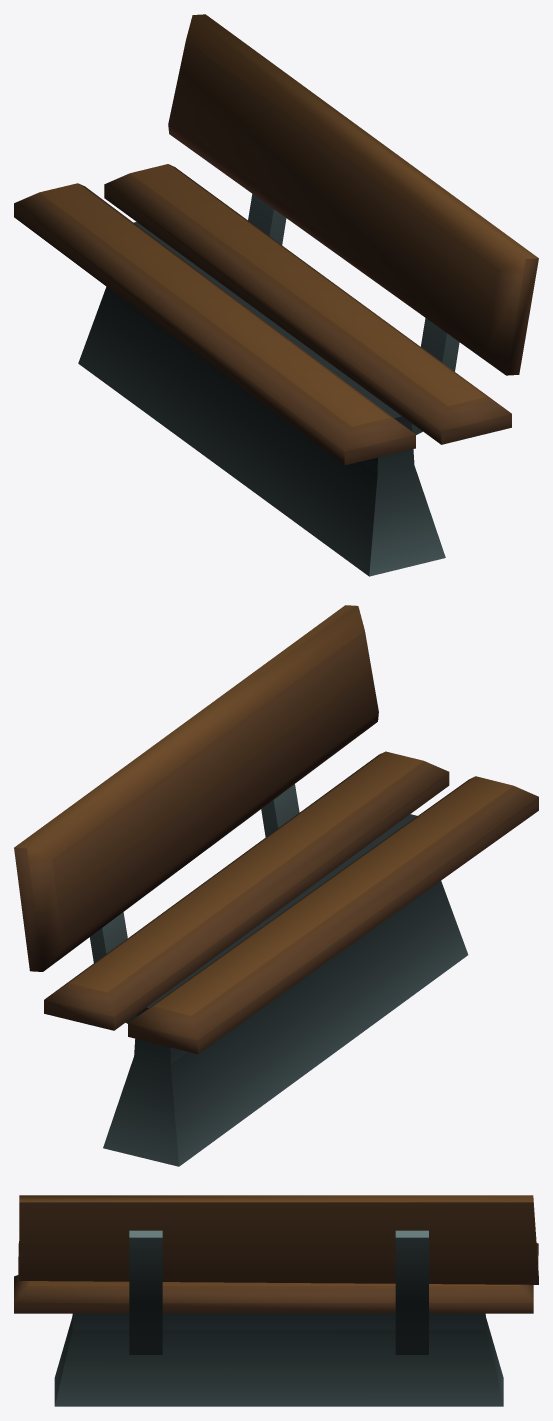
The model's file is Bench_1A.fbx.
3 views of the same model, one above another, from view 1: azimuth 30°, elevation 25°; view 2: azimuth 150°, elevation 25°; view 3: azimuth 270°, elevation 25° (orthographic). The views are drawn at different scales.
Visible parts, largest first — view 1: Bench_1A; view 2: Bench_1A; view 3: Bench_1A.
Part boxes in pixels (x1=…): Bench_1A: x1=14, y1=14, x2=538, y2=576; Bench_1A: x1=14, y1=605, x2=538, y2=1166; Bench_1A: x1=14, y1=1195, x2=538, y2=1406.
Bounding box in the file's own units: 94.15 × 135 × 276.
